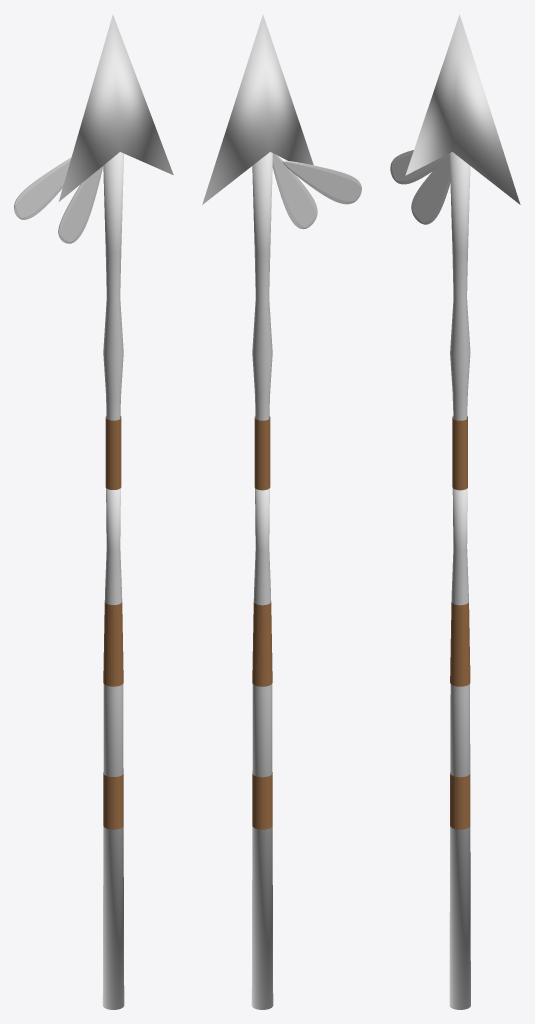
File: spear.fbx
3 renders of one model, left to right at view 1: azimuth 30°, elevation 25°; view 2: azimuth 210°, elevation 25°; view 3: azimuth 330°, elevation 25°, orthographic.
Visible parts, largest first — view 1: SpearStaff, SpearHead, HandleBottom, Leaf1.001, Leaf1, Handle, HandleBot2; view 2: SpearStaff, SpearHead, Leaf1, Leaf1.001, HandleBottom, Handle, HandleBot2; view 3: SpearStaff, SpearHead, HandleBottom, Leaf1.001, Handle, HandleBot2, Leaf1.
Part boxes in pixels (x1=…): SpearStaff: x1=102, y1=152, x2=124, y2=1009; SpearHead: x1=59, y1=14, x2=173, y2=201; HandleBottom: x1=103, y1=602, x2=123, y2=686; Leaf1.001: x1=58, y1=166, x2=103, y2=243; Leaf1: x1=14, y1=157, x2=71, y2=219; Handle: x1=105, y1=416, x2=121, y2=489; HandleBot2: x1=103, y1=772, x2=123, y2=829; SpearStaff: x1=251, y1=152, x2=273, y2=1009; SpearHead: x1=202, y1=14, x2=313, y2=204; Leaf1: x1=282, y1=160, x2=361, y2=204; Leaf1.001: x1=272, y1=153, x2=317, y2=229; HandleBottom: x1=252, y1=602, x2=272, y2=686; Handle: x1=254, y1=416, x2=270, y2=490; HandleBot2: x1=252, y1=772, x2=272, y2=829; SpearStaff: x1=449, y1=152, x2=470, y2=1009; SpearHead: x1=405, y1=14, x2=520, y2=204; HandleBottom: x1=450, y1=602, x2=470, y2=686; Leaf1.001: x1=411, y1=153, x2=450, y2=224; Handle: x1=452, y1=416, x2=467, y2=490; HandleBot2: x1=450, y1=772, x2=470, y2=829; Leaf1: x1=390, y1=150, x2=447, y2=184.
Size of the model in its own units: 98.7 by 645 by 26.64.
